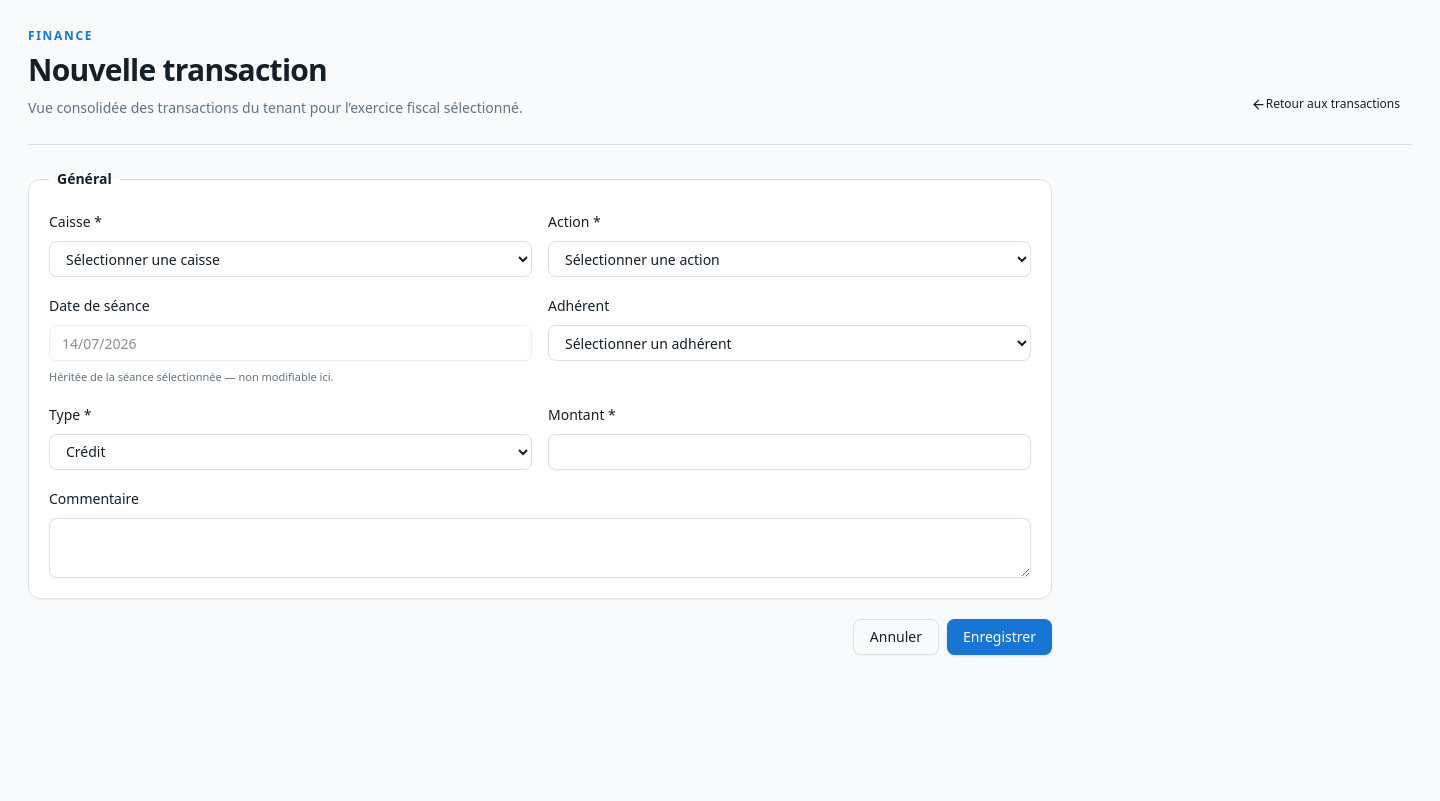
it: Finance → Transactions — REMBOURSEMENT (détermination automatique de la dette) › aucun sélecteur « Prêt concerné » ; « Montant à rembourser » vient de la dette résolue et est en lecture seule
Select "Transport" in the dropdown labelled "Caisse *" at (290, 259), box [49, 241, 532, 277]
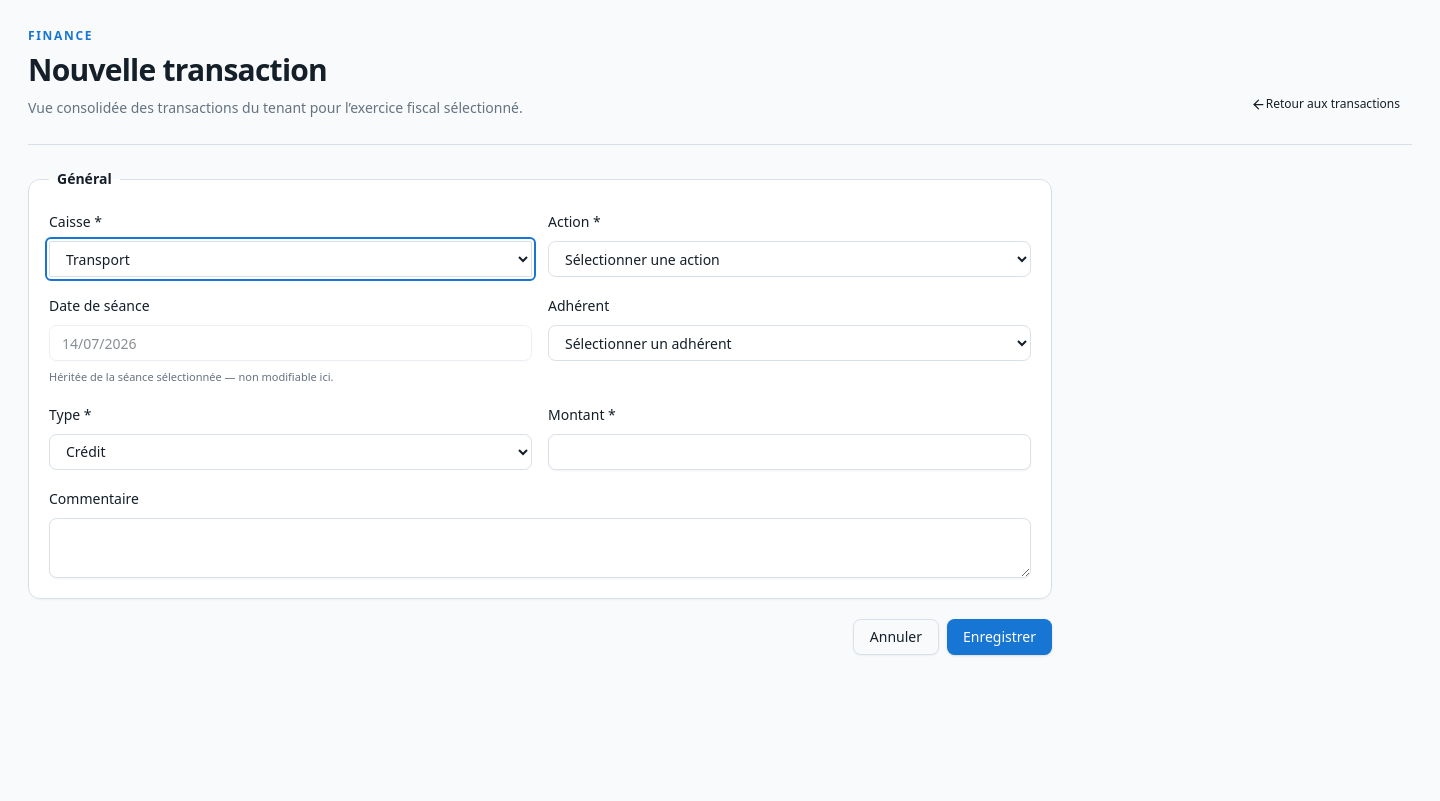
Select "Rembourser" in the dropdown labelled "Action *" at (790, 259), box [548, 241, 1031, 277]
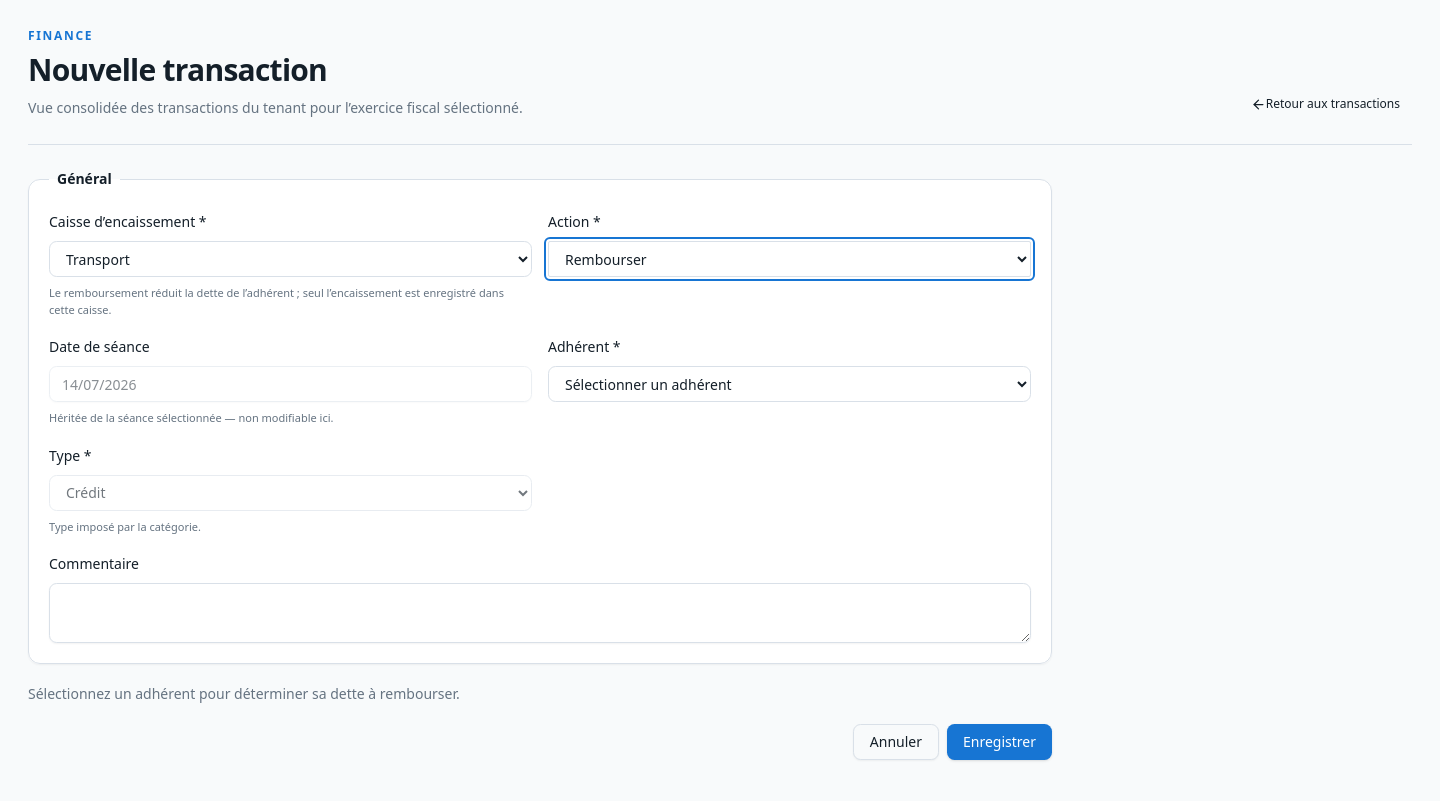
Select "Fatou Ndiaye" in the dropdown labelled "Adhérent *" at (790, 384), box [548, 366, 1031, 402]
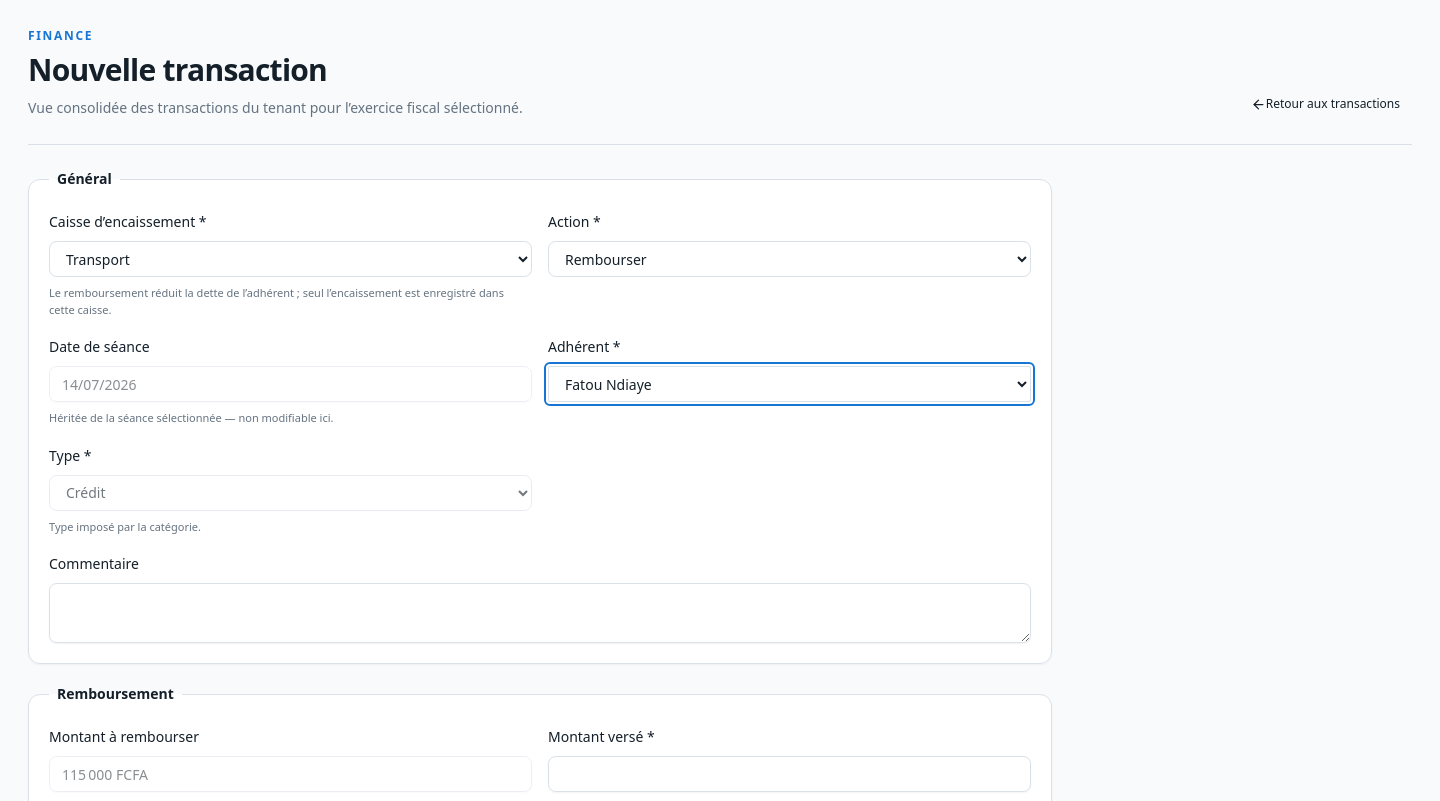
Expected: the field labelled "Montant à rembourser" is shown, [49, 756, 532, 792]
